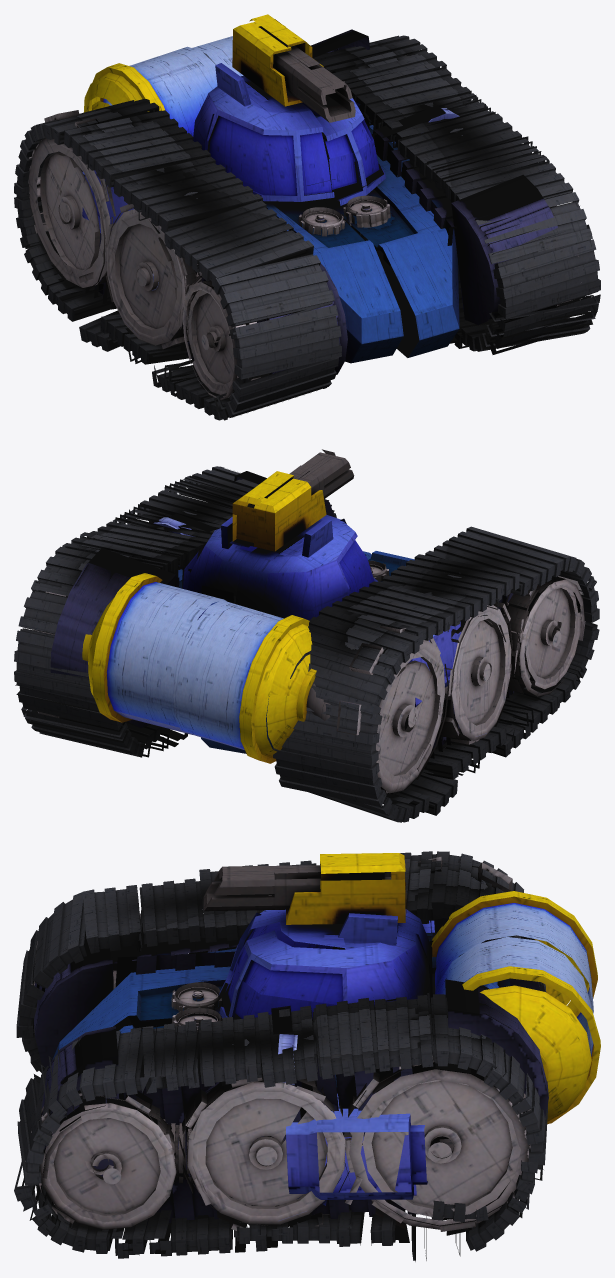
The model's file is PlayerB_die4.obj.
The picture shows the model from 3 angles, top to bottom: view 1: azimuth 30°, elevation 25°; view 2: azimuth 150°, elevation 25°; view 3: azimuth 270°, elevation 25°; orthographic projection. The views are drawn at different scales.
Parts seen in each view (by area): view 1: Object005; view 2: Object005; view 3: Object005.
Boxes of the visible parts, x1,y1,x2,y2 form: Object005: (14,14,600,420); Object005: (14,449,599,822); Object005: (14,851,600,1261).
Size of the model in its own units: 125 by 89.35 by 150.
Materials: 2 (2 with a texture image).
